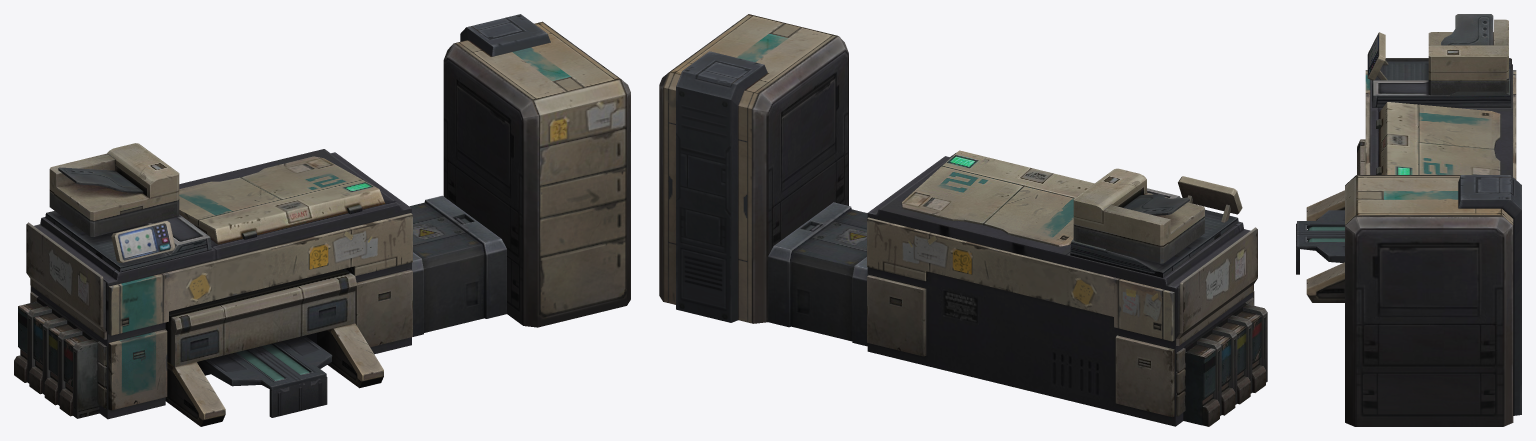
The model's file is mf_blueprintprinter004.FBX.
3 views of the same model, side by side, from view 1: azimuth 30°, elevation 25°; view 2: azimuth 150°, elevation 25°; view 3: azimuth 270°, elevation 25° (orthographic). The views are drawn at different scales.
Visible parts, largest first — view 1: mf_blueprintprinter004; view 2: mf_blueprintprinter004; view 3: mf_blueprintprinter004.
Part boxes in pixels (x1,y1,x2,y2): mf_blueprintprinter004: [14, 14, 630, 426]; mf_blueprintprinter004: [659, 14, 1267, 426]; mf_blueprintprinter004: [1296, 14, 1521, 426].
Bounding box in the file's own units: 4.68 × 1.92 × 1.82.
